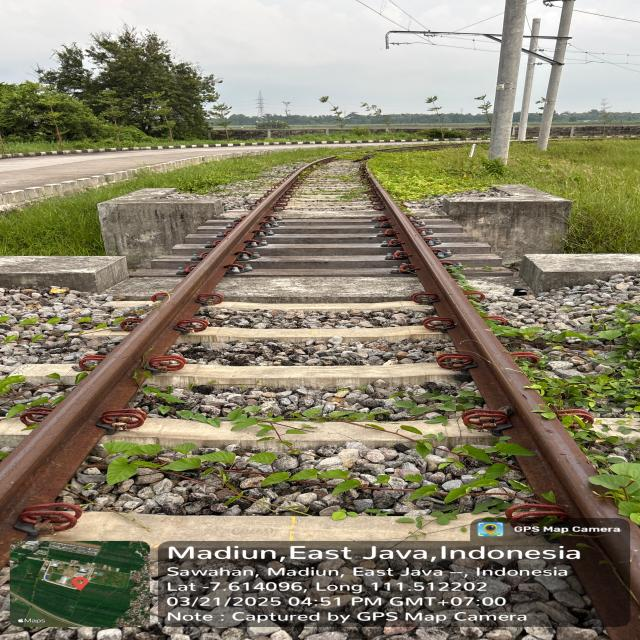rail-detection: (0, 170, 300, 562), (370, 179, 622, 519), (365, 165, 501, 367), (575, 520, 640, 640)
